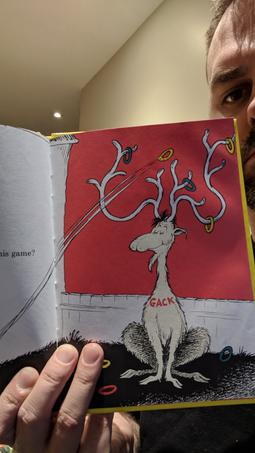text block: (1, 242, 42, 269)
